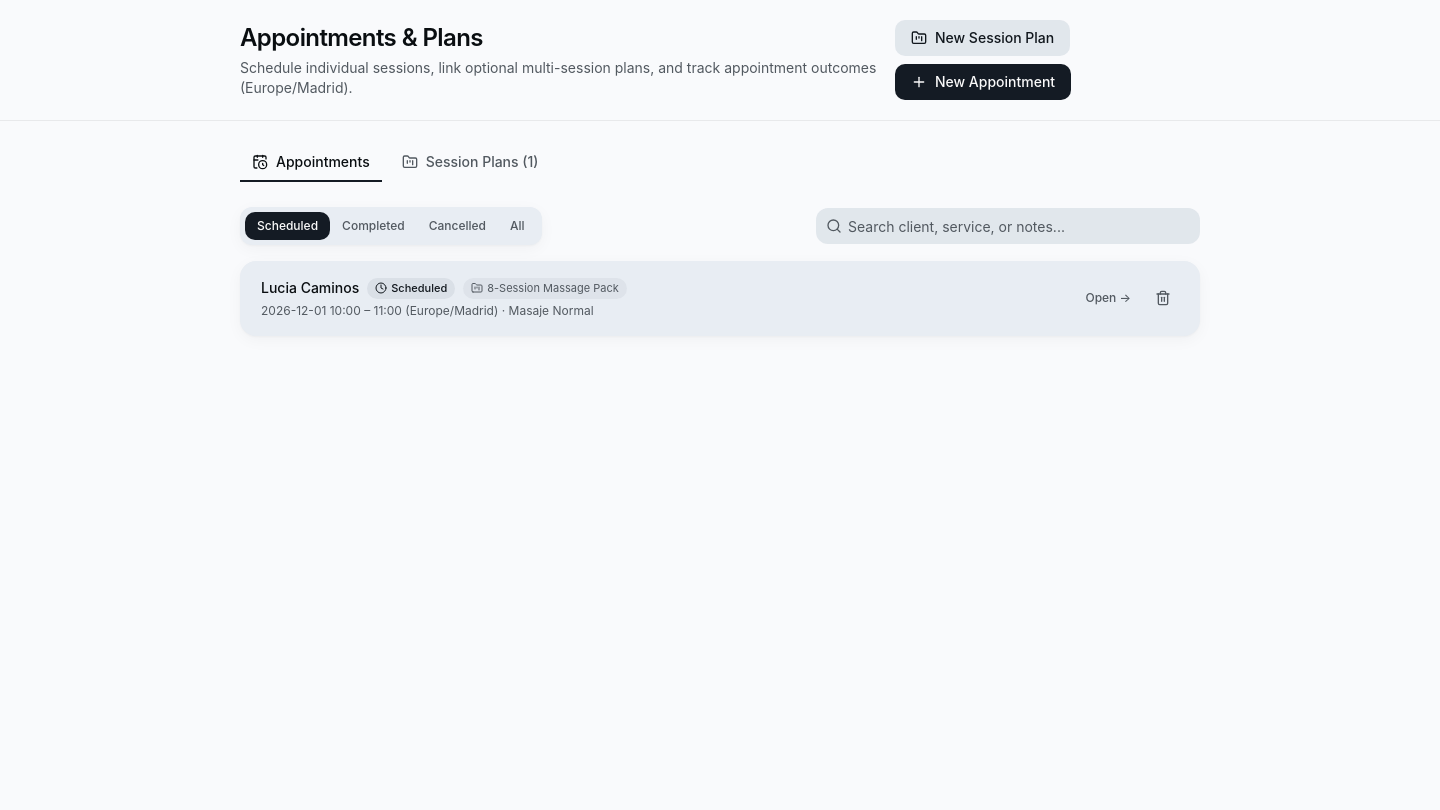
Scenario: AppointmentsPage deletion flows › confirms and deletes a session plan with optional linked-appointment cascade
Later steps or results of the test are not shown.
Click the button "Session Plans (1)". click: [470, 163]
box: [390,144,550,182]
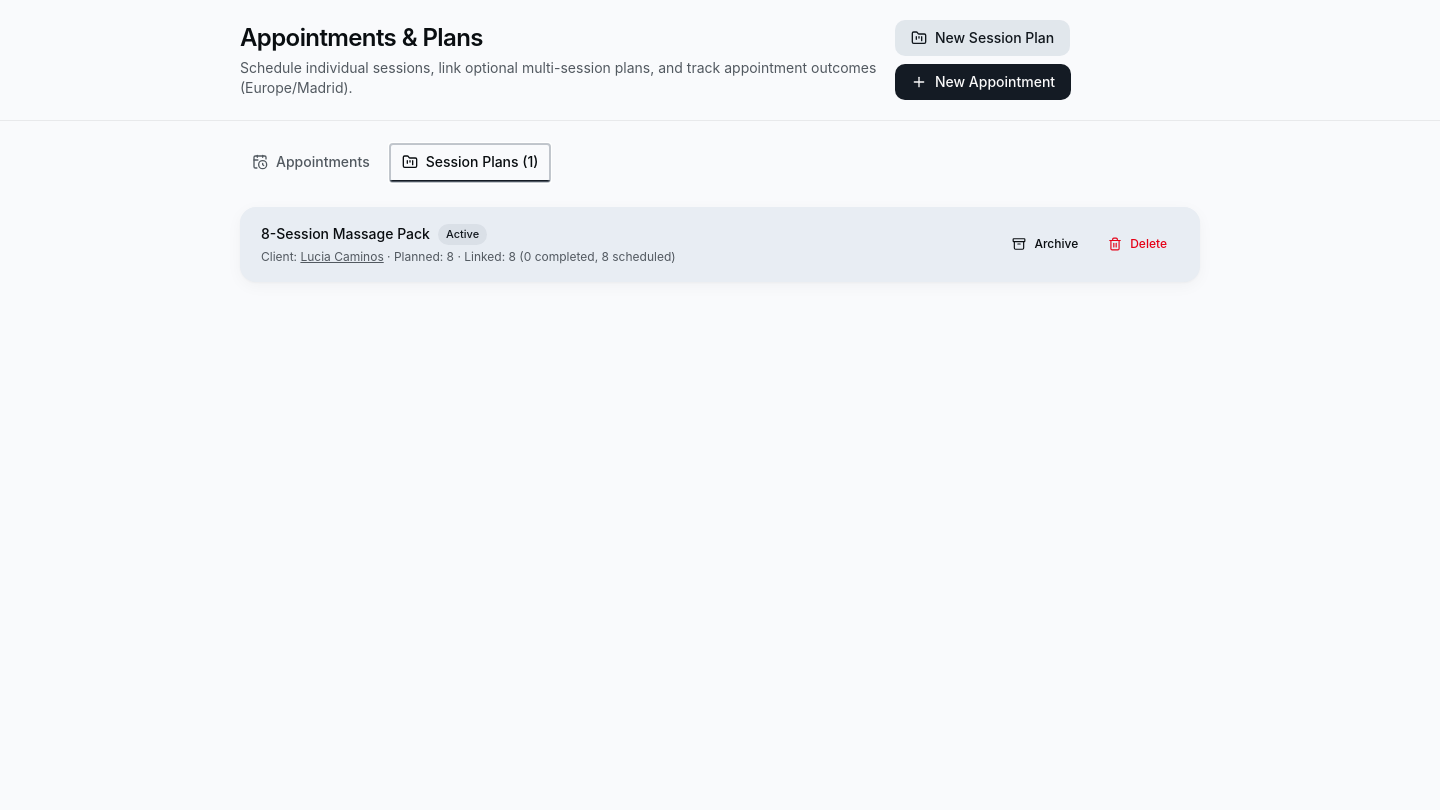
Click the button "Delete". click: [1138, 244]
box: [1096,228,1179,260]
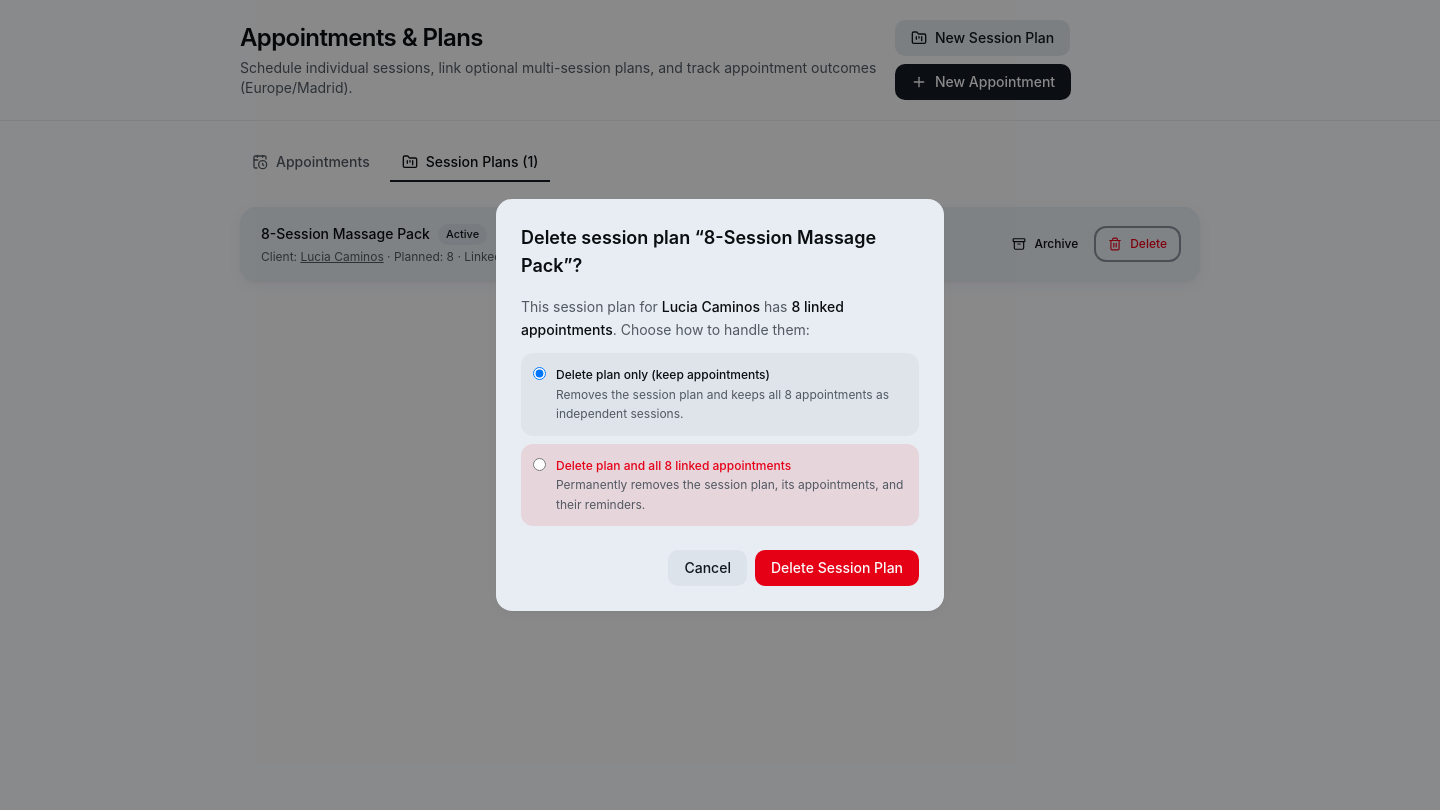
Now the heading "Delete session plan “8-Session Massage Pack”?" is shown, box [521,224,919,280]
